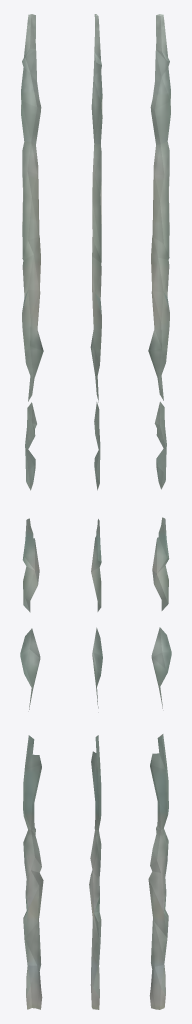
The model's file is Tile_+011_+009_L21_0000001400.glb.
3 views of the same model, side by side, from view 1: azimuth 90°, elevation 25°; view 2: azimuth 210°, elevation 25°; view 3: azimuth 270°, elevation 25° (orthographic).
Parts seen in each view (by area): view 1: rtc; view 2: rtc; view 3: rtc.
Boxes of the visible parts, x1,y1,x2,y2 form: rtc: [20, 14, 43, 1009]; rtc: [89, 14, 102, 1009]; rtc: [148, 14, 171, 1009].
Bounding box in the file's own units: 0.1347 × 24.87 × 0.5345.
1 material, 1 textured.
